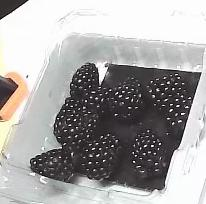berry: (56, 104, 102, 150), (81, 134, 121, 179), (130, 129, 167, 177), (149, 72, 187, 112), (30, 148, 73, 181), (113, 77, 144, 122), (162, 95, 191, 138), (70, 62, 100, 100), (54, 96, 83, 134), (80, 86, 113, 119)
